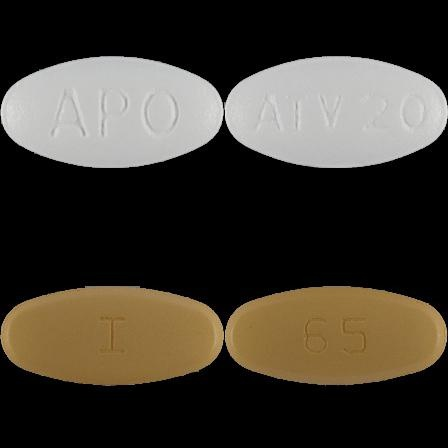63629-4801: (0, 0, 224, 224)
